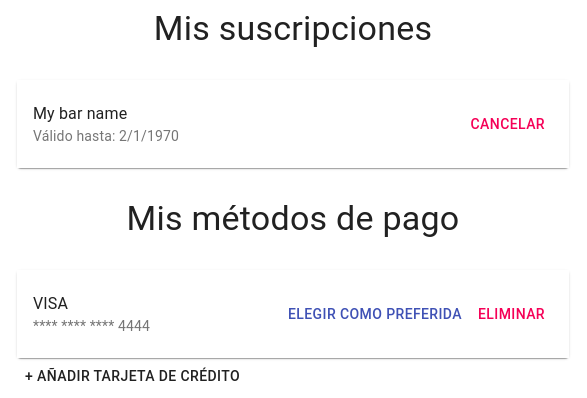
Test: Render subscriptions › Remove card
Expected: the text "My bar name" is shown, [33, 104, 127, 123]
Expected: the text "ELIMINAR" is shown once, [478, 302, 545, 326]
Click the button "ELIMINAR".
click(512, 314)  # box [470, 296, 553, 332]
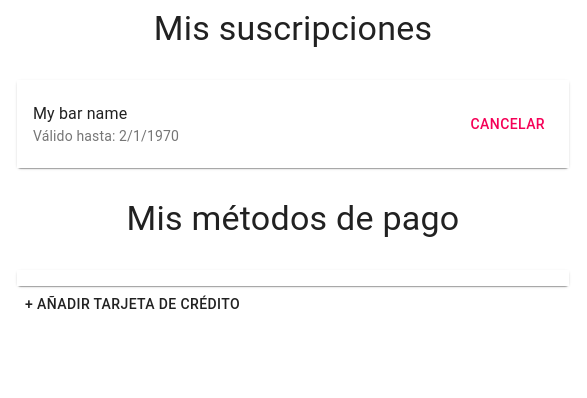
Expected: the button "ELIMINAR" is gone
